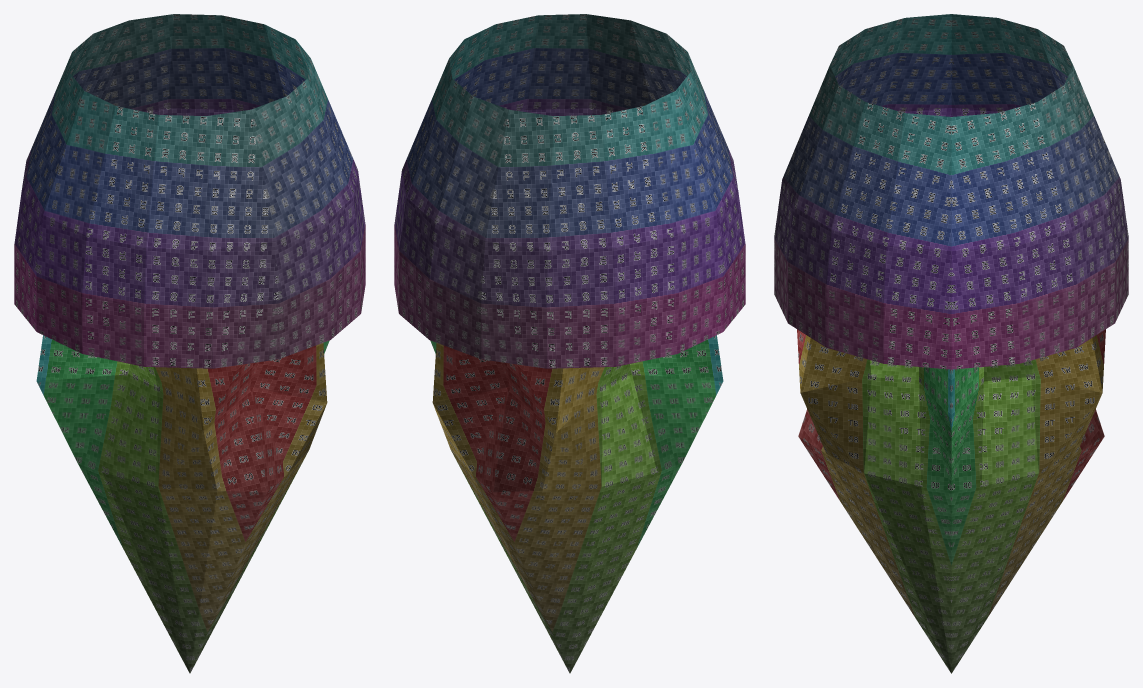
File: palace4.fbx
3 renders of one model, left to right at view 1: azimuth 30°, elevation 25°; view 2: azimuth 150°, elevation 25°; view 3: azimuth 270°, elevation 25°, orthographic.
Parts seen in each view (by area): view 1: palace4; view 2: palace4; view 3: palace4.
Boxes of the visible parts, x1,y1,x2,y2 form: palace4: (14,14,365,673); palace4: (394,14,745,673); palace4: (774,14,1128,673).
Size of the model in its own units: 1724 by 3268 by 1723.
